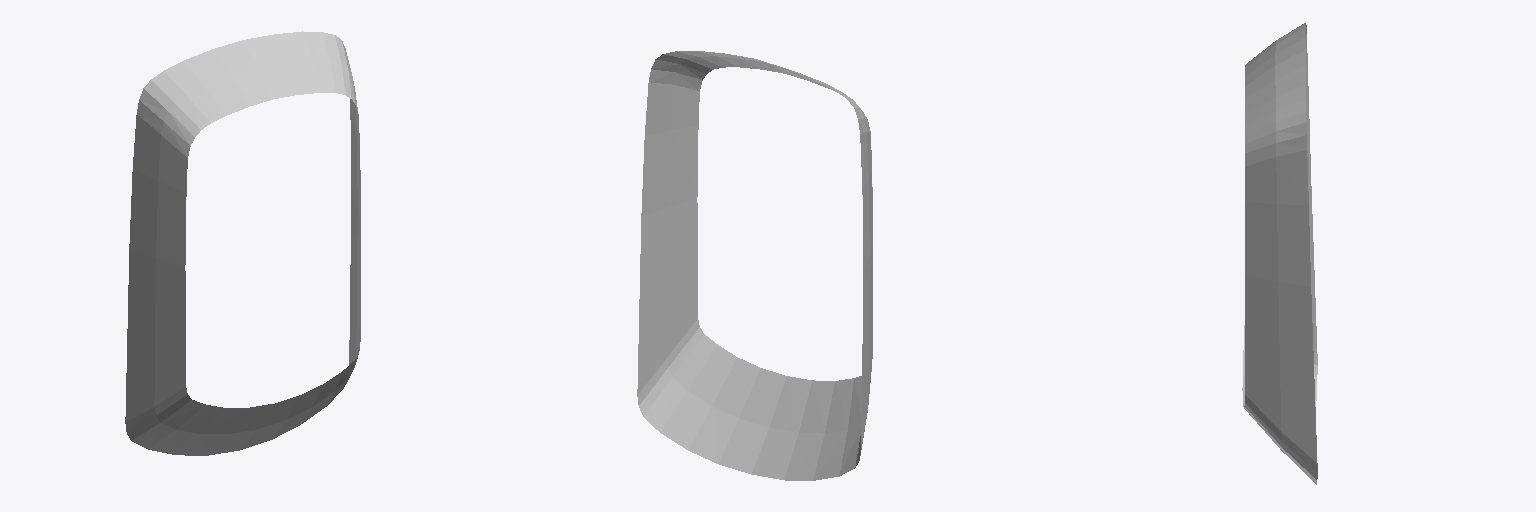
Rendered from mini_glass.obj.
3 renders of one model, left to right at view 1: azimuth 30°, elevation 25°; view 2: azimuth 150°, elevation 25°; view 3: azimuth 270°, elevation 25°, orthographic.
Parts seen in each view (by area): view 1: default; view 2: default; view 3: default.
Part boxes in pixels (x1,y1,x2,y2): default: (125, 31, 360, 455); default: (637, 51, 872, 480); default: (1242, 23, 1317, 484).
Size of the model in its own units: 144 by 254 by 41.85.